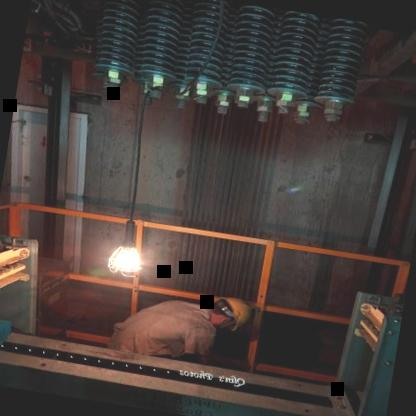helmet: (203, 292, 249, 328)
